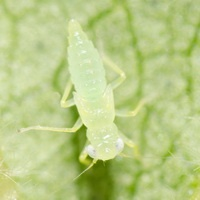insect: (18, 19, 133, 175)
